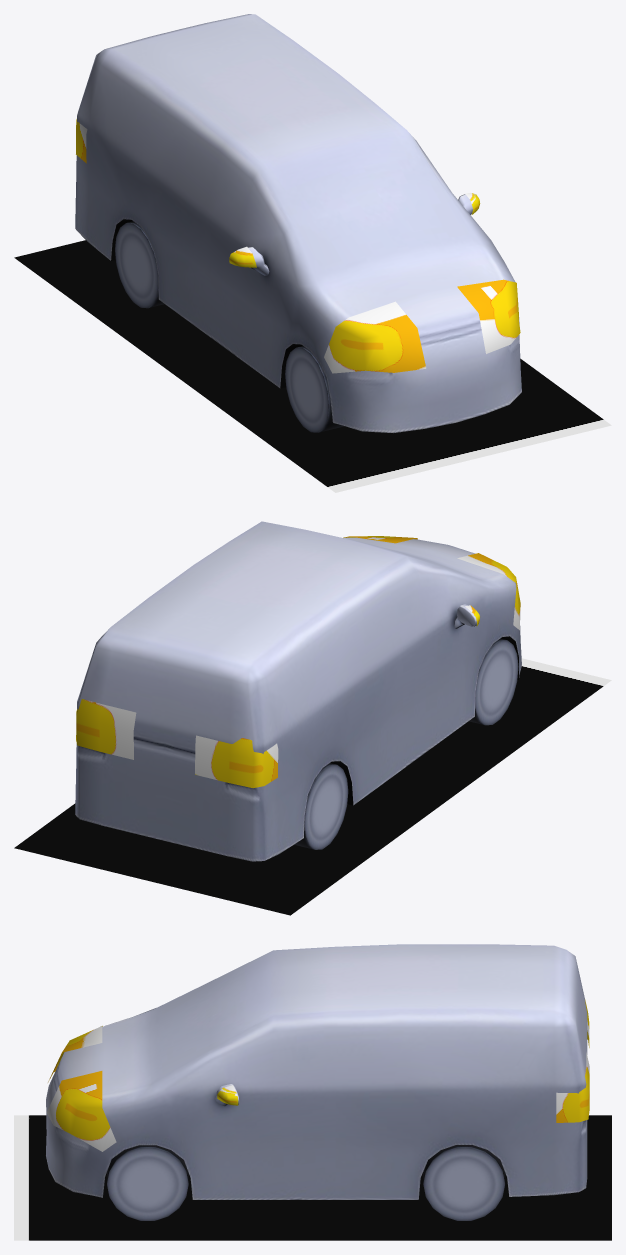
Rendered from MPV.fbx.
The picture shows the model from 3 angles, top to bottom: view 1: azimuth 30°, elevation 25°; view 2: azimuth 150°, elevation 25°; view 3: azimuth 270°, elevation 25°; orthographic projection. The views are drawn at different scales.
Visible parts, largest first — view 1: CA_Car, CA_Shadow, CA_RB, CA_RF, CA_RDirection, CA_LDirection, CA_W_RF, CA_WB; view 2: CA_Car, CA_Shadow, CA_RF, CA_RB, CA_RDirection, CA_LDirection, CA_WB, CA_W_RF; view 3: CA_Car, CA_Shadow, CA_LB, CA_LF, CA_WB, CA_W_LF, CA_LDirection, CA_RDirection.
Part boxes in pixels (left/top/right/bottom): CA_Car: left=75, top=14, right=521, bottom=433; CA_Shadow: left=14, top=240, right=611, bottom=492; CA_RB: left=140, top=103, right=219, bottom=309; CA_RF: left=205, top=152, right=283, bottom=357; CA_RDirection: left=76, top=119, right=426, bottom=373; CA_LDirection: left=457, top=193, right=520, bottom=353; CA_W_RF: left=285, top=346, right=344, bottom=432; CA_WB: left=115, top=221, right=164, bottom=308; CA_Car: left=75, top=521, right=521, bottom=861; CA_Shadow: left=14, top=658, right=611, bottom=915; CA_RF: left=384, top=571, right=476, bottom=747; CA_RB: left=318, top=590, right=398, bottom=778; CA_RDirection: left=195, top=553, right=520, bottom=788; CA_LDirection: left=76, top=536, right=417, bottom=759; CA_WB: left=294, top=763, right=348, bottom=849; CA_W_RF: left=469, top=638, right=518, bottom=725; CA_Car: left=46, top=944, right=587, bottom=1199; CA_Shadow: left=14, top=1115, right=611, bottom=1240; CA_LB: left=333, top=1027, right=455, bottom=1177; CA_LF: left=210, top=1027, right=333, bottom=1177; CA_WB: left=423, top=1145, right=505, bottom=1220; CA_W_LF: left=107, top=1145, right=188, bottom=1220; CA_LDirection: left=46, top=1052, right=589, bottom=1151; CA_RDirection: left=48, top=999, right=589, bottom=1082.
Size of the model in its own units: 3.29 by 2.49 by 6.62.
